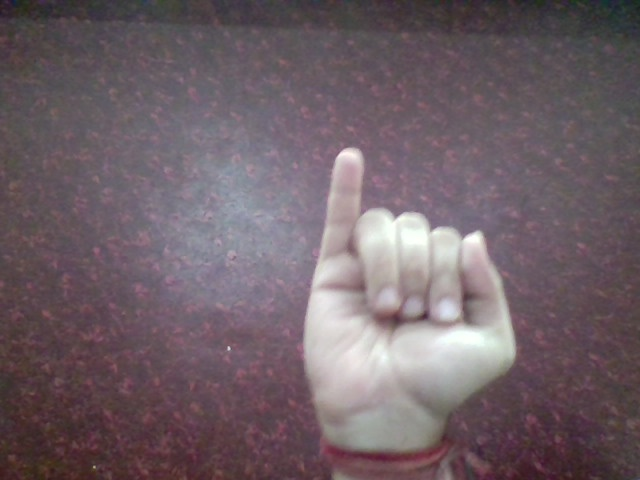i: (293, 140, 536, 438)
